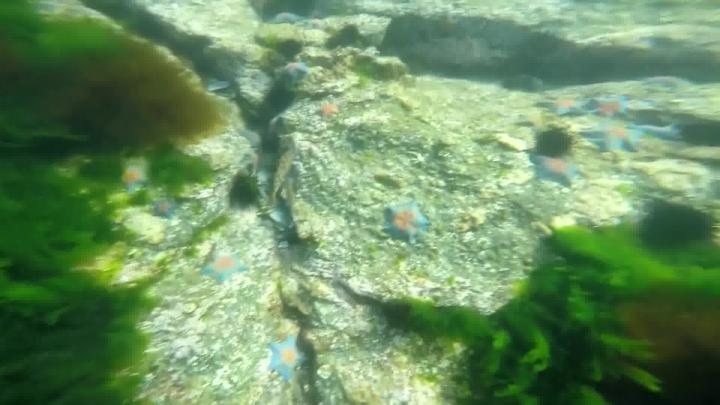echinus: (641, 204, 710, 245), (539, 127, 573, 159), (270, 83, 293, 111), (340, 27, 358, 45)
starfish: (580, 123, 644, 160), (387, 197, 430, 247), (532, 155, 579, 192), (204, 248, 250, 284), (271, 338, 308, 382), (594, 93, 635, 122), (540, 94, 587, 118), (637, 121, 686, 141), (645, 76, 695, 92), (120, 167, 146, 192), (281, 62, 307, 82), (151, 200, 175, 218), (273, 13, 304, 26)
